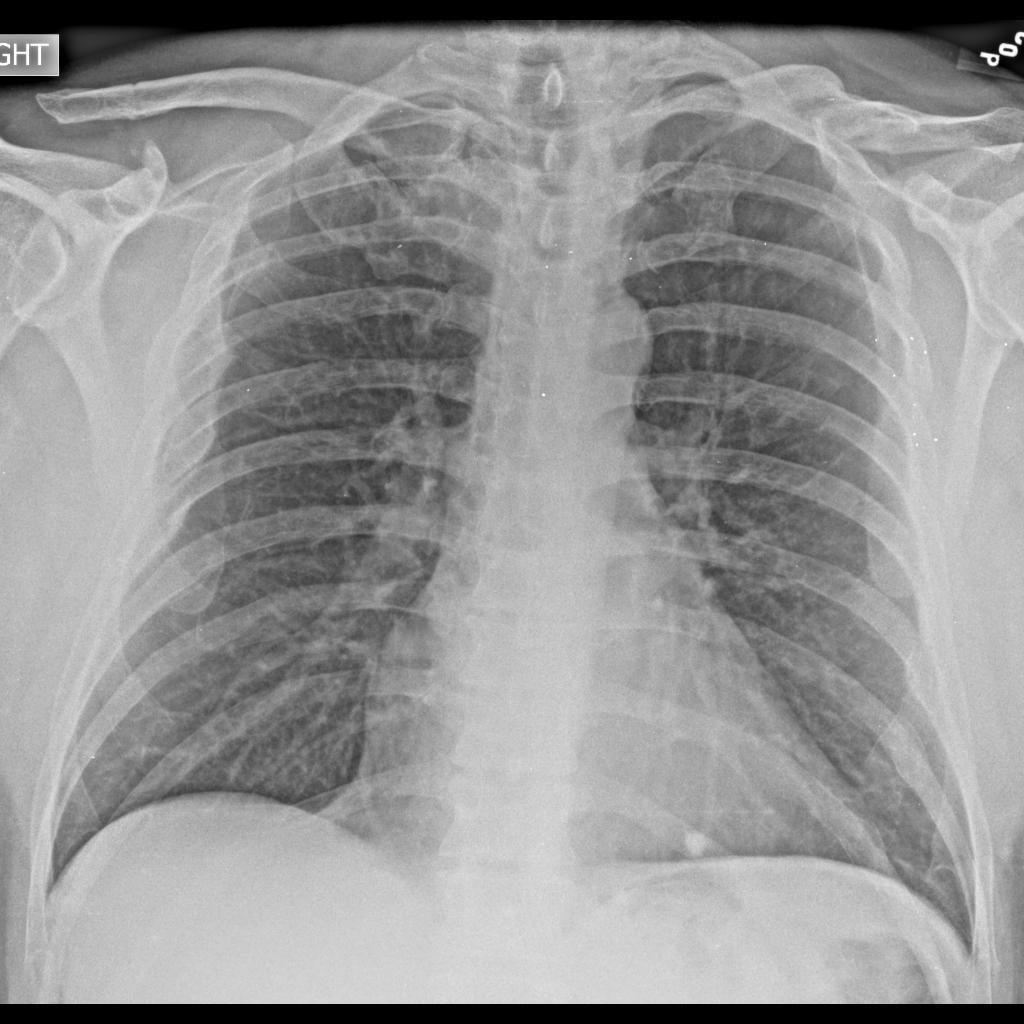Nodule: (675, 818, 715, 860)
